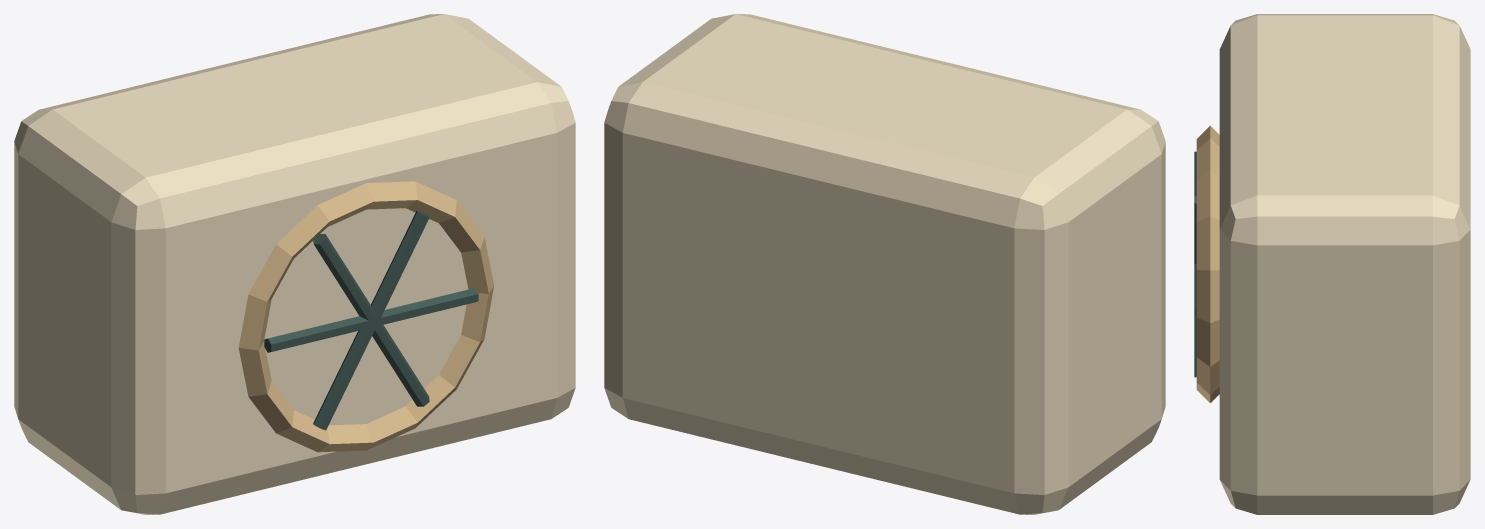
The model's file is tpe5_air_conditioner.glb.
3 views of the same model, side by side, from view 1: azimuth 30°, elevation 25°; view 2: azimuth 150°, elevation 25°; view 3: azimuth 270°, elevation 25° (orthographic). The views are drawn at different scales.
Visible parts, largest first — view 1: tpe5_air_conditioner__tpe5-street-ivory, tpe5_air_conditioner__tpe5-street-brass, tpe5_air_conditioner__tpe5-street-ink; view 2: tpe5_air_conditioner__tpe5-street-ivory; view 3: tpe5_air_conditioner__tpe5-street-ivory, tpe5_air_conditioner__tpe5-street-brass, tpe5_air_conditioner__tpe5-street-ink.
Part boxes in pixels (x1,y1,x2,y2): tpe5_air_conditioner__tpe5-street-ivory: (14,14,575,514); tpe5_air_conditioner__tpe5-street-brass: (238,181,494,452); tpe5_air_conditioner__tpe5-street-ink: (264,210,478,430); tpe5_air_conditioner__tpe5-street-ivory: (604,14,1165,514); tpe5_air_conditioner__tpe5-street-ivory: (1219,14,1470,514); tpe5_air_conditioner__tpe5-street-brass: (1196,125,1219,403); tpe5_air_conditioner__tpe5-street-ink: (1194,151,1196,377).
Bounding box in the file's own units: 0.8 × 0.56 × 0.4404.
